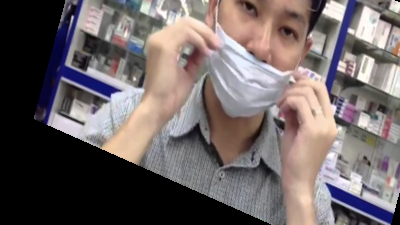mask_weared_incorrect: (191, 1, 315, 120)
